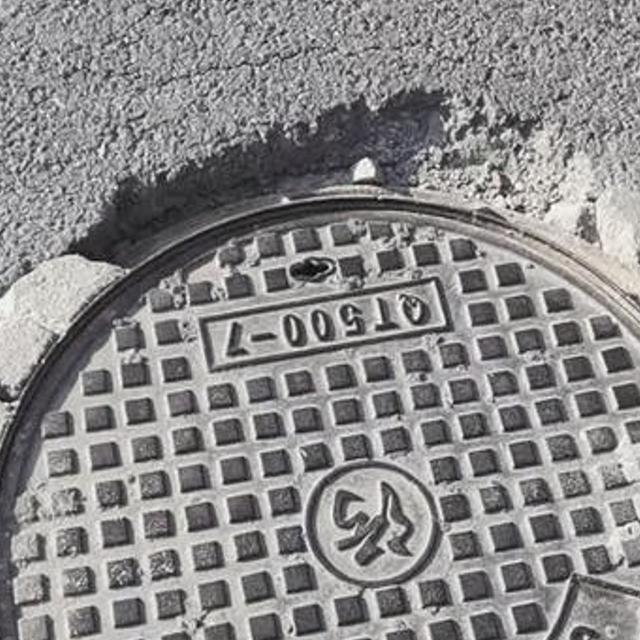circle: (0, 117, 640, 640)
